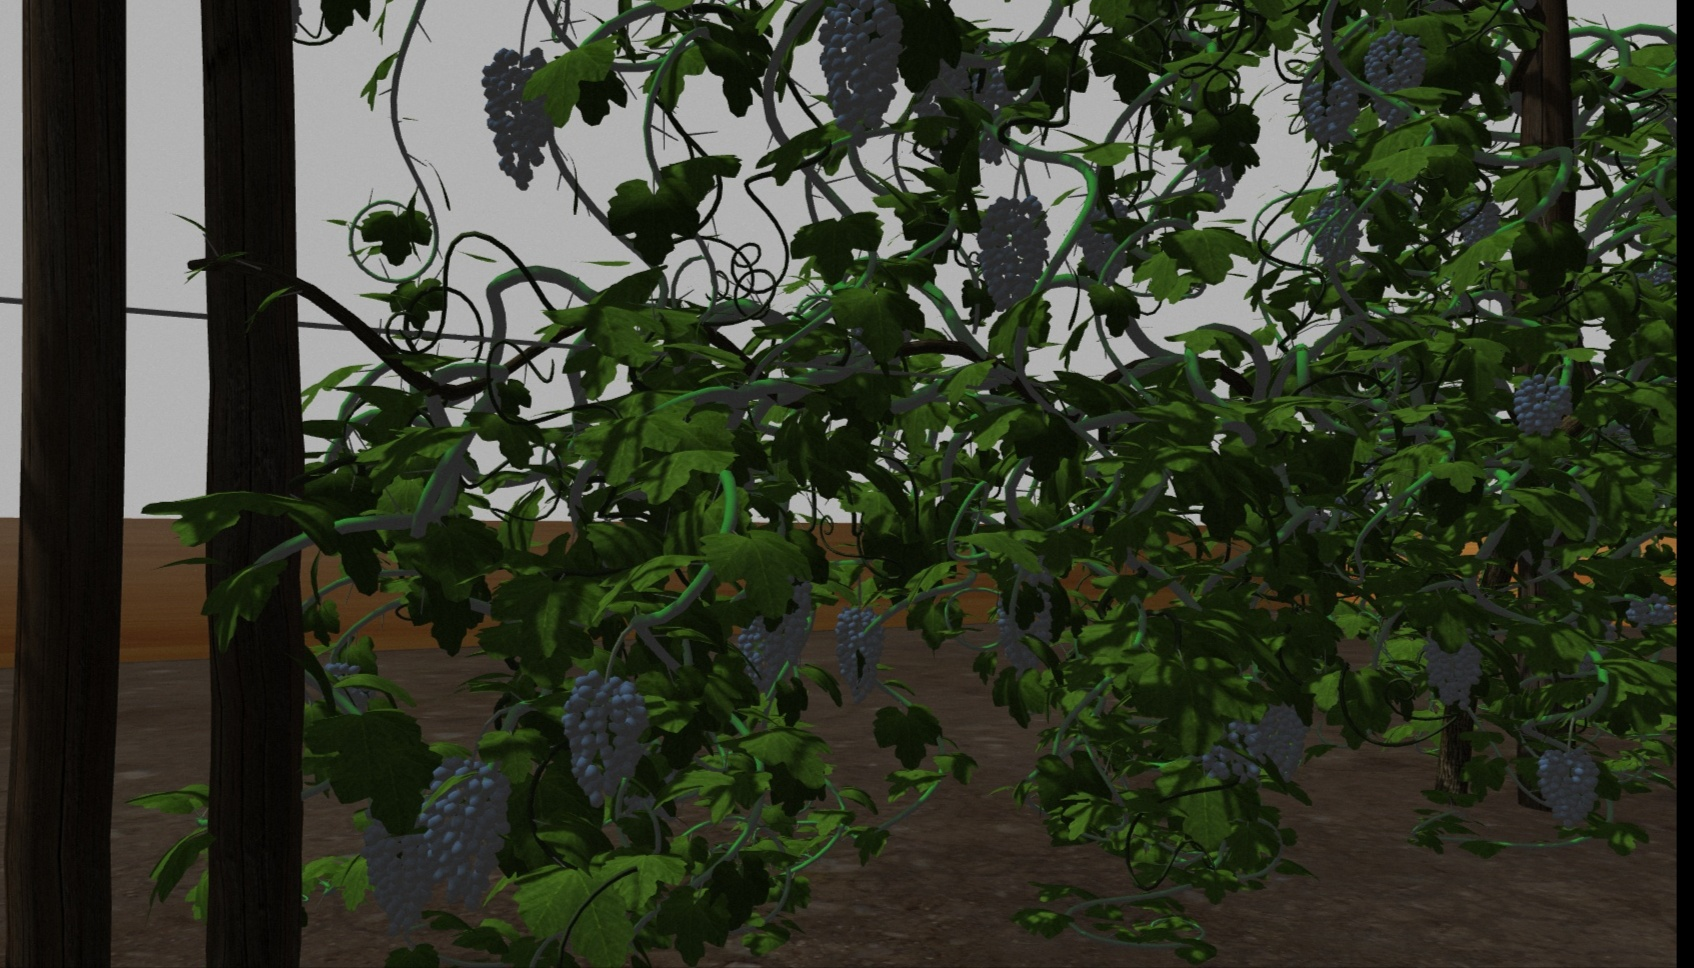grape: (560, 665, 654, 810), (421, 766, 512, 908), (481, 48, 565, 188), (820, 3, 905, 143), (976, 193, 1052, 315), (362, 816, 439, 935), (739, 578, 816, 689), (996, 568, 1061, 676), (1364, 33, 1430, 124), (1537, 746, 1602, 835), (1074, 195, 1136, 280), (1425, 629, 1485, 716), (1300, 194, 1366, 266), (1296, 73, 1362, 145), (837, 608, 887, 698), (1257, 693, 1310, 776), (1202, 718, 1264, 785), (1514, 370, 1572, 436), (1627, 595, 1675, 636)
